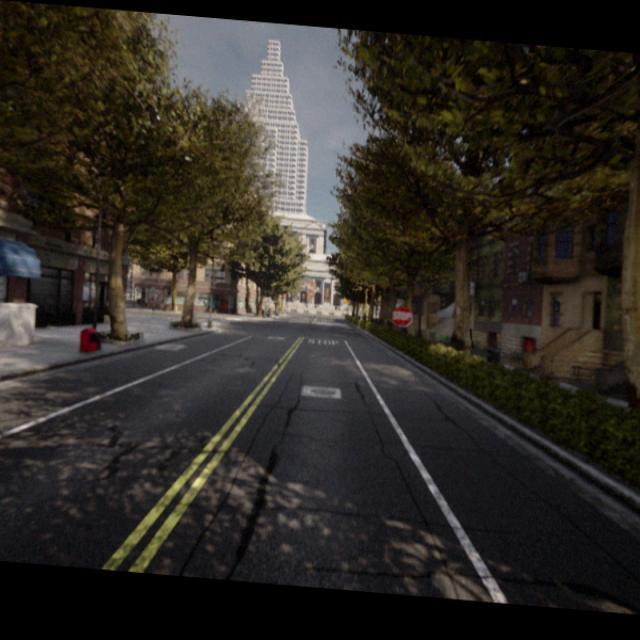stop sign: (390, 300, 414, 330)
